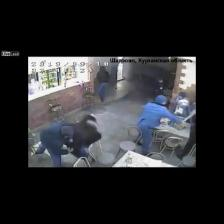person: (36, 115, 101, 167), (138, 96, 180, 155), (96, 67, 109, 102)
